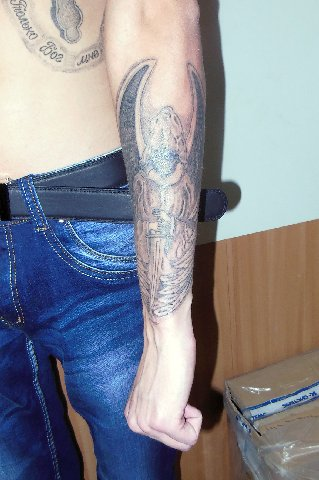tatu1_angel: (121, 65, 208, 312)
